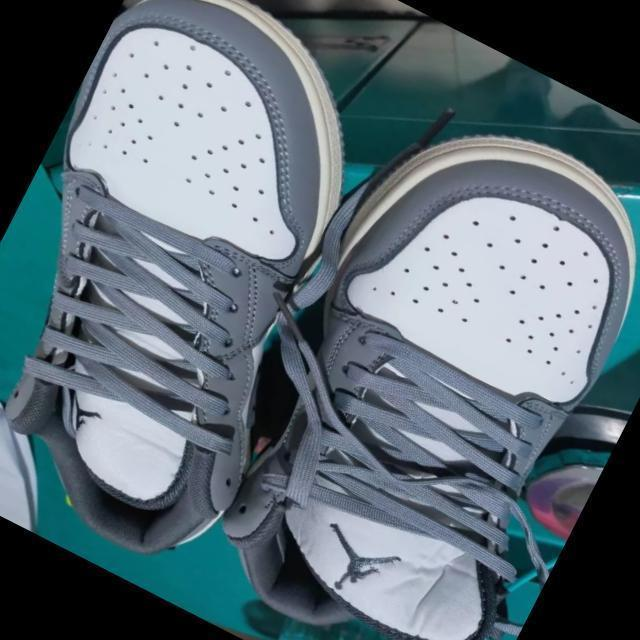nike fake jordan 1: (0, 0, 446, 591), (169, 82, 640, 640)
